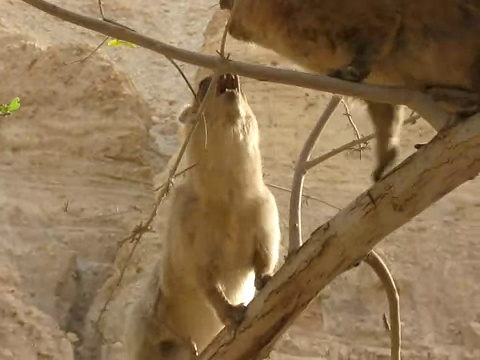Rock Hyrex: (218, 1, 480, 184), (124, 61, 279, 359)
